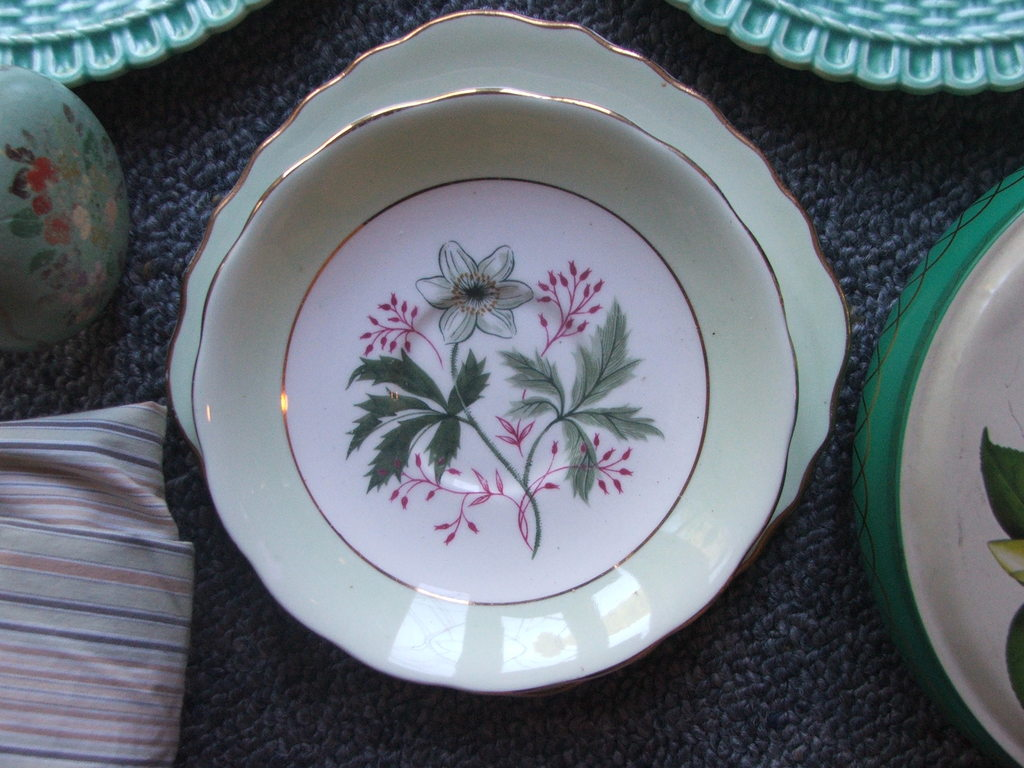plate: (190, 86, 799, 696)
